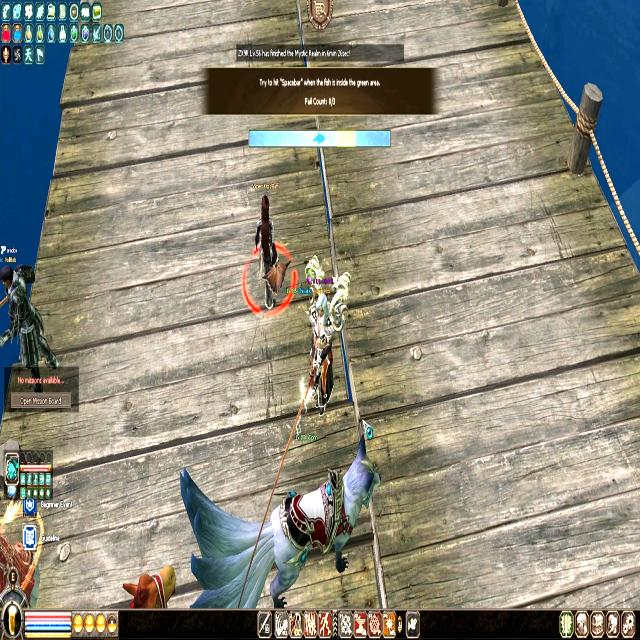fishes: (314, 131, 325, 145)
